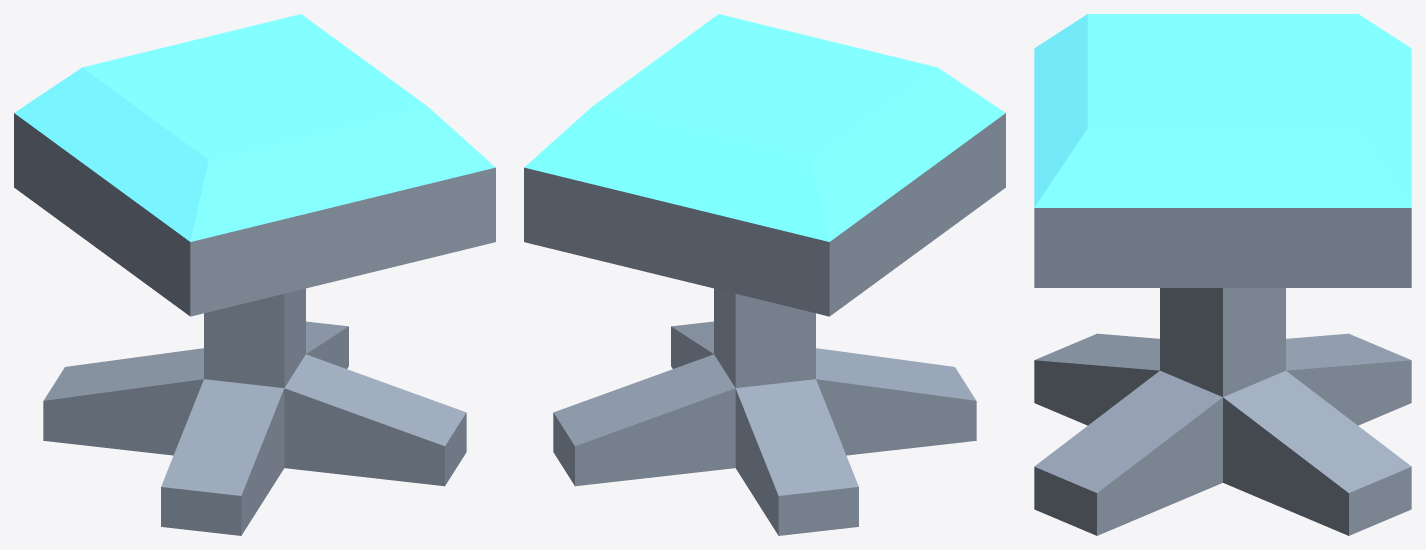
Rendered from desk_chairStool.glb.
The picture shows the model from 3 angles, left to right: view 1: azimuth 30°, elevation 25°; view 2: azimuth 150°, elevation 25°; view 3: azimuth 270°, elevation 25°; orthographic projection. The views are drawn at different scales.
Visible parts, largest first — view 1: desk_chairStool; view 2: desk_chairStool; view 3: desk_chairStool.
Part boxes in pixels (x1=…): desk_chairStool: x1=14, y1=14, x2=495, y2=535; desk_chairStool: x1=524, y1=14, x2=1005, y2=535; desk_chairStool: x1=1034, y1=14, x2=1411, y2=535.
Bounding box in the file's own units: 0.15 × 0.1687 × 0.15.
